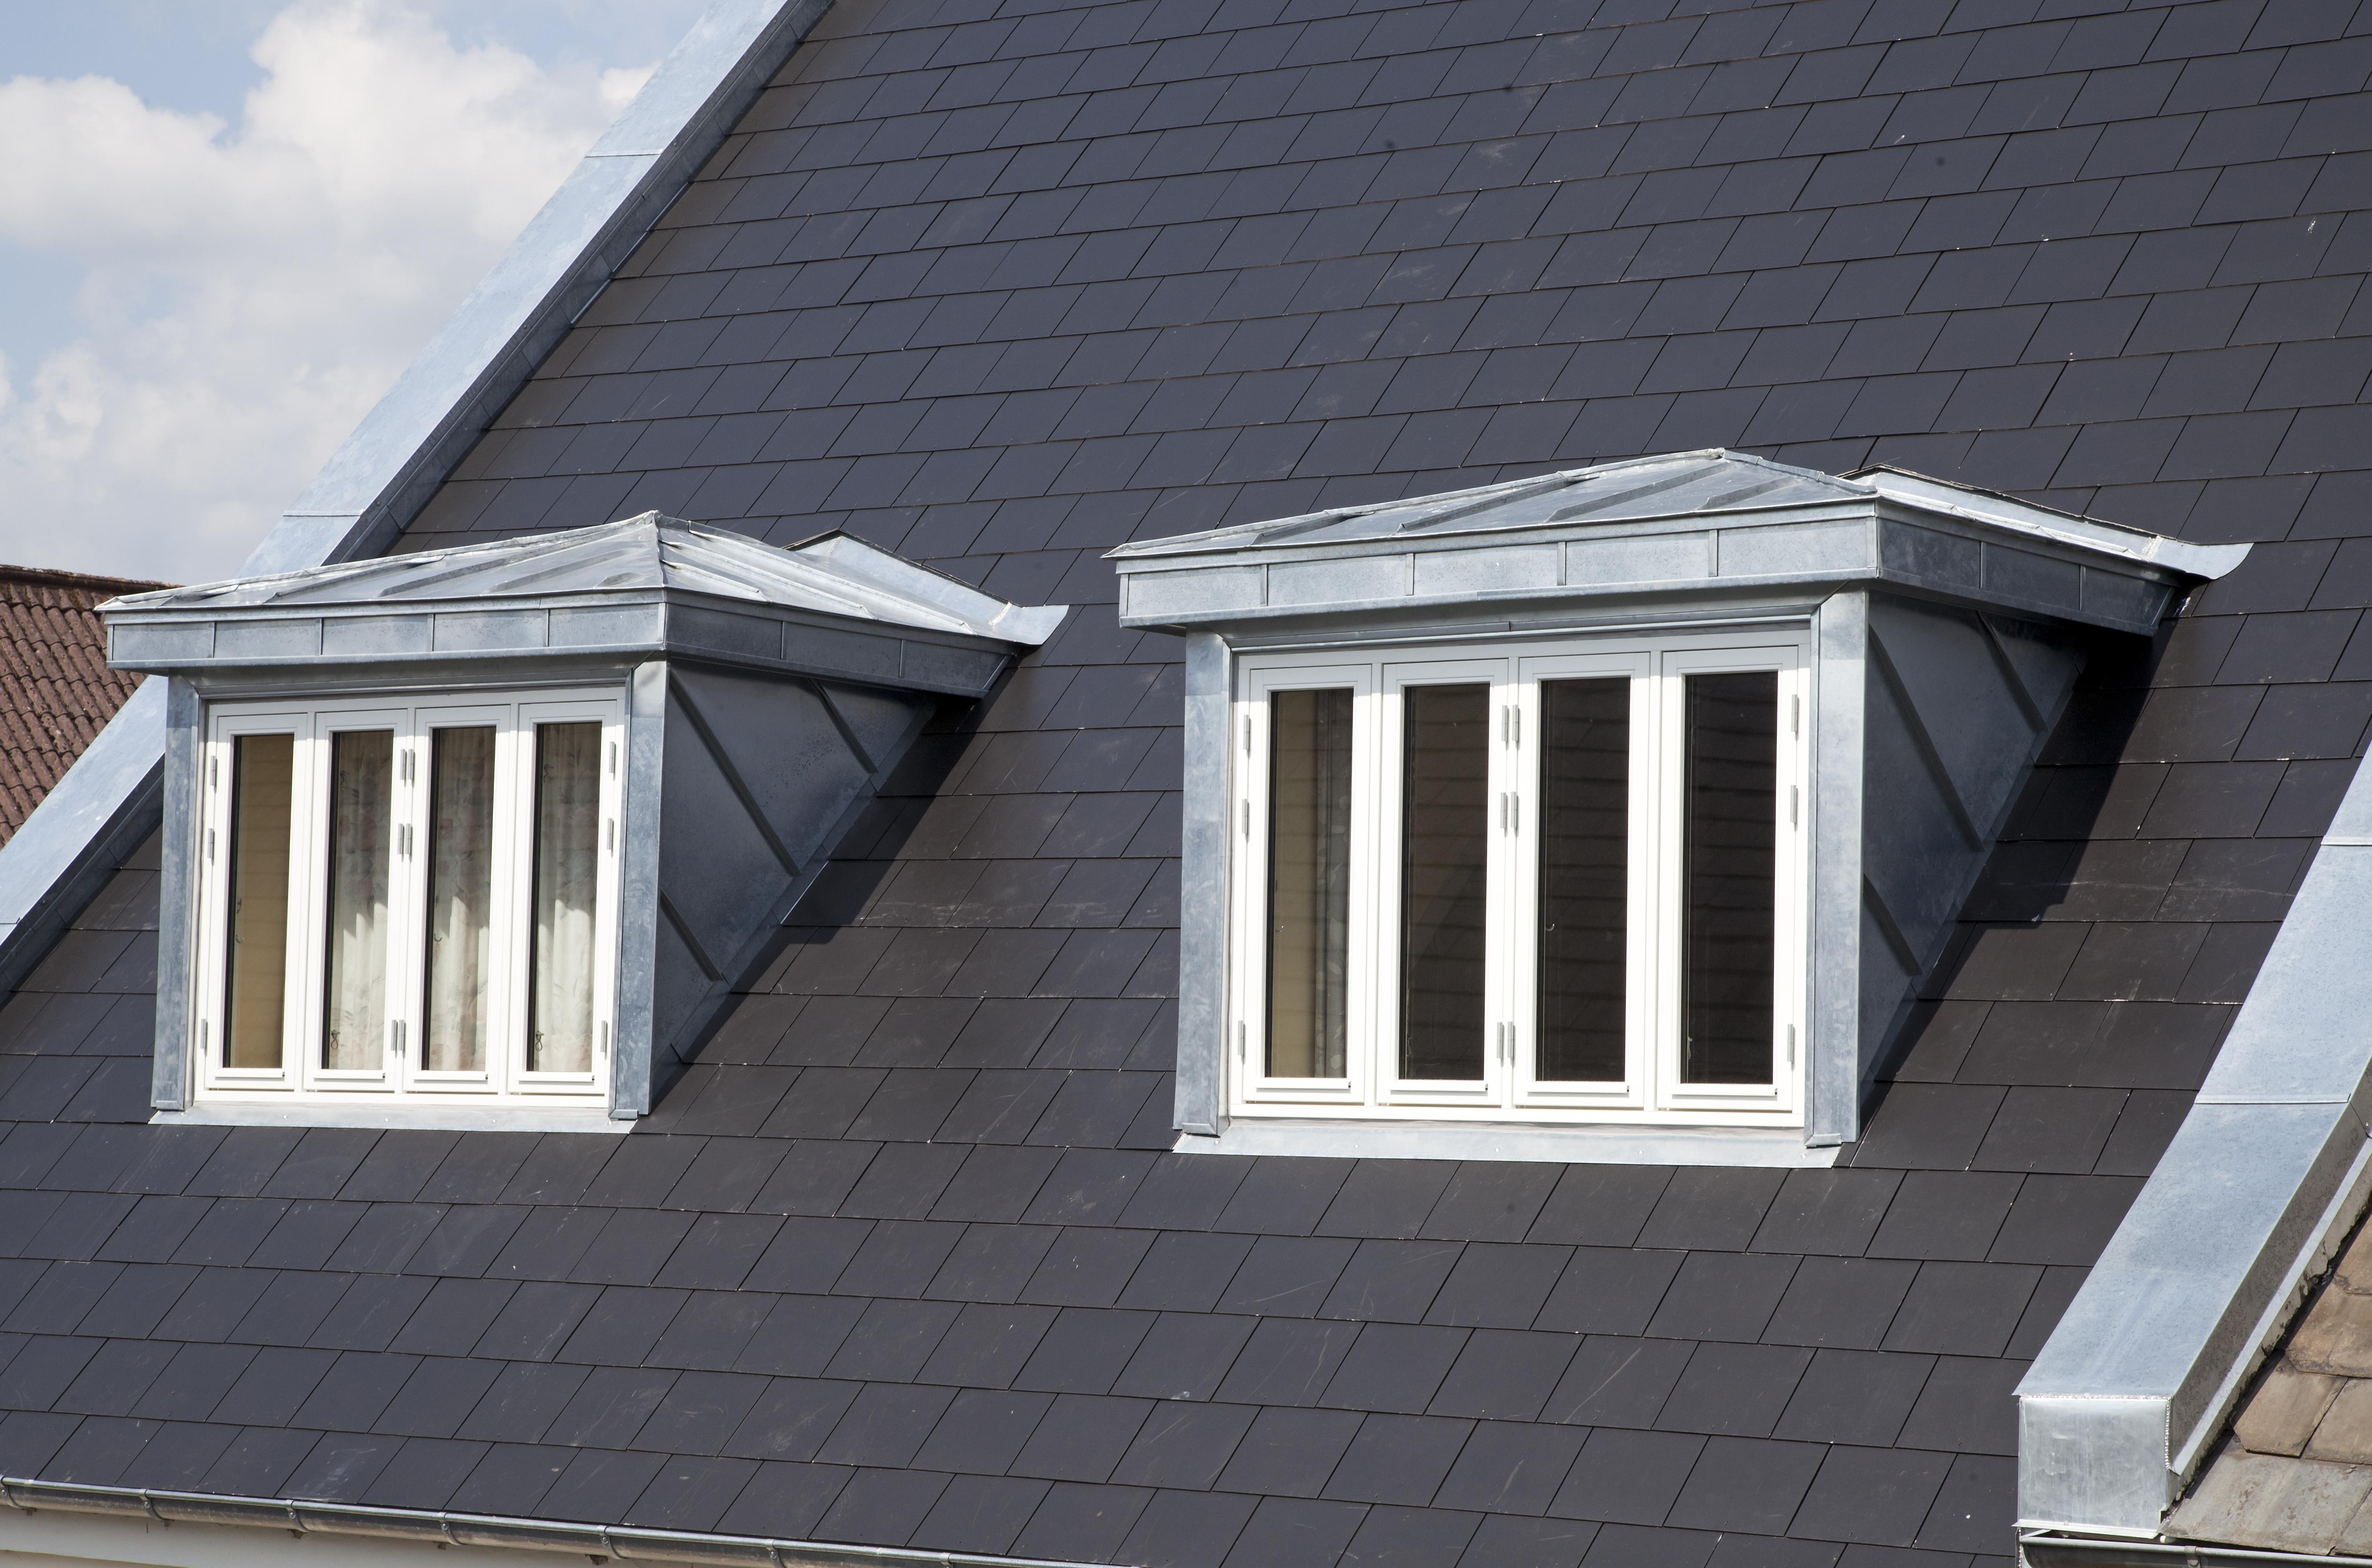kvist windows: (1543, 122, 2372, 480), (1921, 121, 2372, 448), (1559, 157, 1943, 422)
